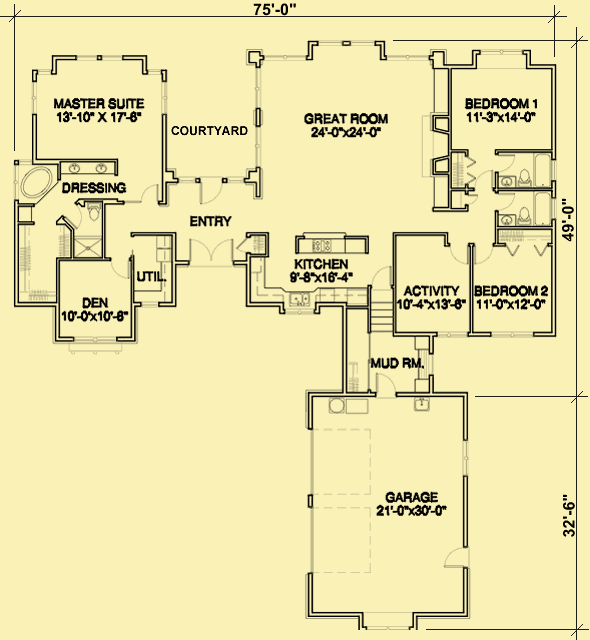door: (186, 232, 237, 271), (372, 369, 400, 402), (442, 542, 471, 572), (196, 177, 224, 206), (369, 261, 395, 292), (61, 203, 82, 229), (496, 190, 517, 214), (140, 181, 159, 206), (498, 148, 517, 171), (476, 168, 494, 192)
kitchen bar: (291, 229, 374, 261)
large sink: (86, 200, 106, 223), (519, 167, 534, 187), (518, 204, 530, 223)
small sink: (57, 160, 120, 175), (494, 175, 517, 188), (499, 214, 515, 232)
stairs: (367, 286, 394, 338)
tub: (15, 165, 55, 200), (530, 151, 553, 190), (534, 190, 555, 231)
windows: (261, 48, 313, 68), (315, 35, 381, 48), (69, 335, 119, 351), (484, 326, 537, 341), (72, 52, 130, 65), (251, 60, 265, 113), (28, 77, 41, 117), (253, 118, 262, 171), (158, 75, 169, 117), (478, 48, 525, 57)
